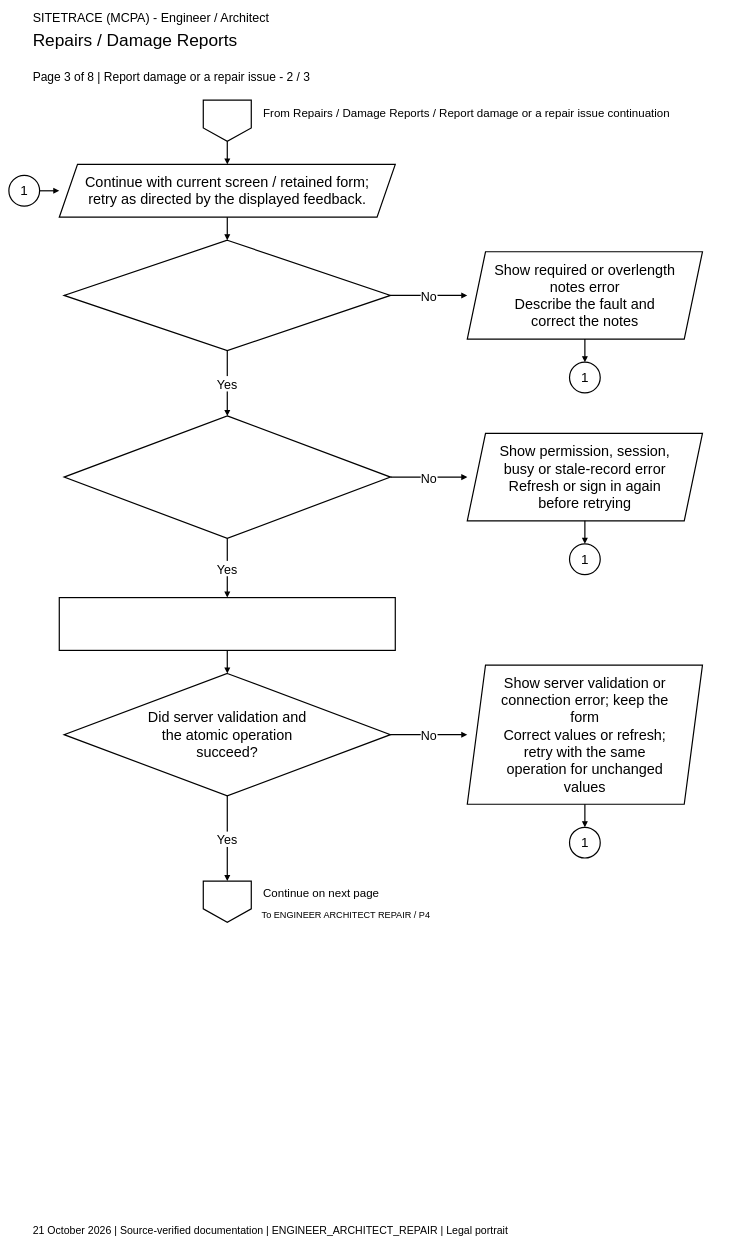
Image size: 747x1248. Some labels were removed from this diagram. Each missing label, with the centre of its shape:
"Damage details valid?" goes at point (227, 295).
"KH" goes at point (227, 120).
"KI" goes at point (227, 901).
"Live account, action permission and latest records ready?" goes at point (227, 477).
"Submit reportRepair to mcpa_movement_action with retained operation UUID" goes at point (227, 624).
